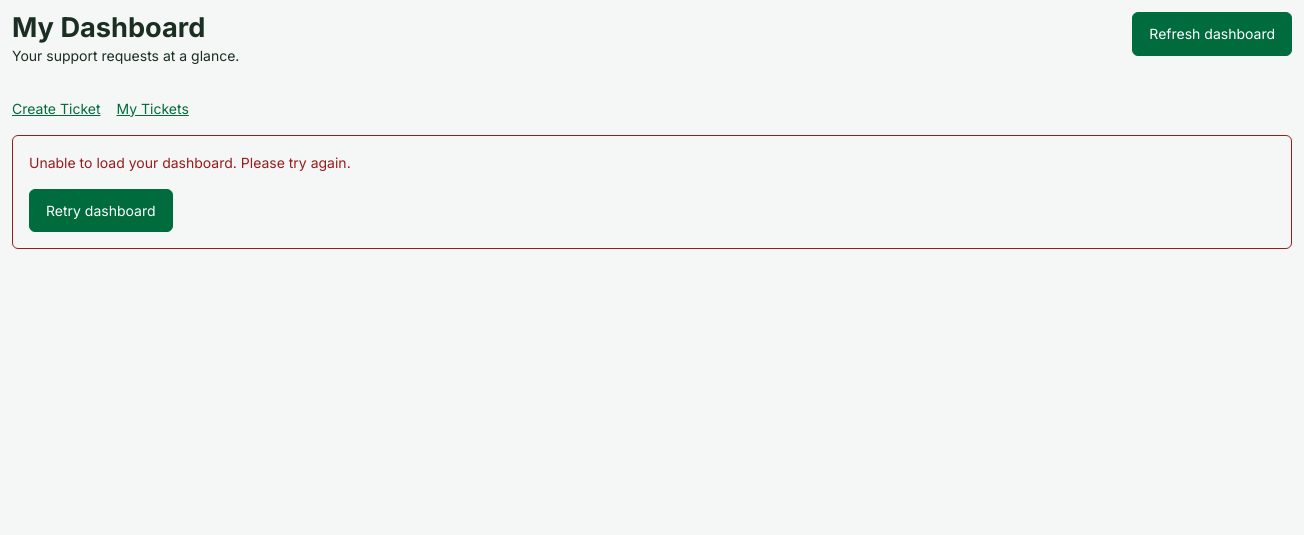
Requester dashboard states › shows a safe error and retries to authoritative success
This screenshot has width=1304, height=535.
expect the message does not show "SECRET": met, box [12, 135, 1292, 249]
Click the button "Retry dashboard".
click(101, 210)  # box [29, 189, 172, 232]
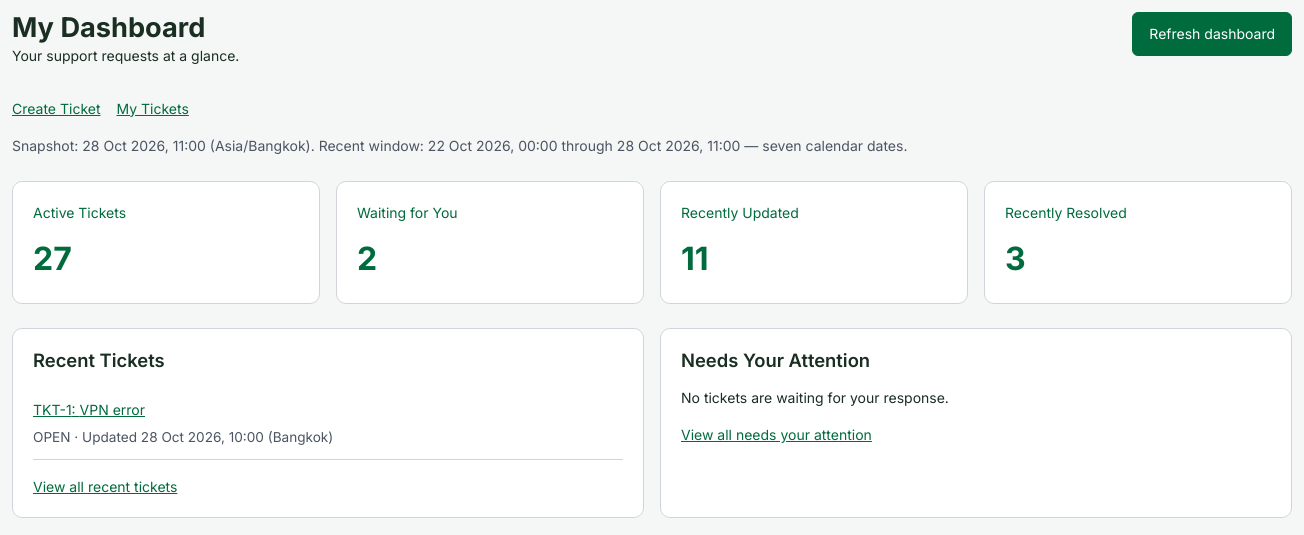
expect the link with aria-label "Active Tickets: 27" is shown: met, box [12, 181, 320, 304]
